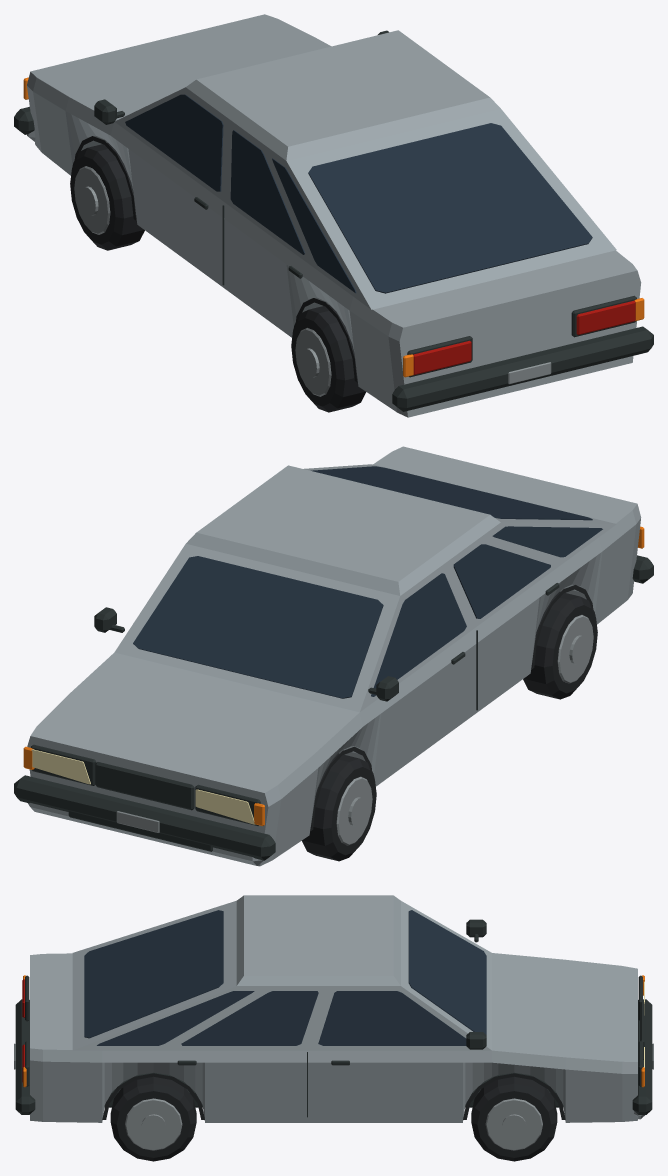
Rendered from 20_Fastback.fbx.
3 views of the same model, one above another, from view 1: azimuth 30°, elevation 25°; view 2: azimuth 150°, elevation 25°; view 3: azimuth 270°, elevation 25° (orthographic). The views are drawn at different scales.
Visible parts, largest first — view 1: Continuous body with open wheel arches.022, Raked cabin with chamfered roof.019, Framed rear windshield.013, Moulded bumper.039, Side glass -1 pane 2.004, Side glass -1 pane 1.014, WheelFL_ShapedSidewall.019, WheelRL_ShapedSidewall.019, Side glass -1 pane 0.017, WheelRL_Rim.019, WheelFL_Rim.019, Tail lamp.039 (+2 smaller); view 2: Continuous body with open wheel arches.022, Raked cabin with chamfered roof.019, Framed opaque windshield.019, Moulded bumper.038, Side glass -1 pane 2.004, Framed rear windshield.013, Side glass -1 pane 1.014, WheelRL_ShapedSidewall.019, WheelFL_ShapedSidewall.019, Inset radiator grille.019, Side glass -1 pane 0.017, WheelFL_Rim.019 (+7 smaller); view 3: Continuous body with open wheel arches.022, Raked cabin with chamfered roof.019, Framed rear windshield.013, Framed opaque windshield.019, Side glass 1 pane 2.004, Side glass 1 pane 1.014, WheelFR_ShapedSidewall.019, WheelRR_ShapedSidewall.019, Side glass 1 pane 0.017, WheelFR_Rim.019, WheelRR_Rim.019, Moulded bumper.039 (+6 smaller).
Part boxes in pixels (x1=…): Continuous body with open wheel arches.022: x1=27, y1=14, x2=641, y2=417; Raked cabin with chamfered roof.019: x1=115, y1=30, x2=616, y2=309; Framed rear windshield.013: x1=308, y1=123, x2=592, y2=293; Moulded bumper.039: x1=392, y1=326, x2=653, y2=411; Side glass -1 pane 2.004: x1=125, y1=94, x2=223, y2=191; Side glass -1 pane 1.014: x1=230, y1=130, x2=304, y2=254; WheelFL_ShapedSidewall.019: x1=70, y1=143, x2=144, y2=250; WheelRL_ShapedSidewall.019: x1=291, y1=304, x2=365, y2=412; Side glass -1 pane 0.017: x1=272, y1=158, x2=356, y2=293; WheelRL_Rim.019: x1=295, y1=328, x2=331, y2=396; WheelFL_Rim.019: x1=74, y1=166, x2=110, y2=234; Tail lamp.039: x1=576, y1=300, x2=635, y2=335; Continuous body with open wheel arches.022: x1=27, y1=446, x2=641, y2=866; Raked cabin with chamfered roof.019: x1=114, y1=464, x2=616, y2=712; Framed opaque windshield.019: x1=133, y1=556, x2=383, y2=698; Moulded bumper.038: x1=14, y1=775, x2=275, y2=860; Side glass -1 pane 2.004: x1=371, y1=573, x2=466, y2=696; Framed rear windshield.013: x1=311, y1=466, x2=592, y2=520; Side glass -1 pane 1.014: x1=453, y1=544, x2=550, y2=618; WheelRL_ShapedSidewall.019: x1=523, y1=591, x2=597, y2=699; WheelFL_ShapedSidewall.019: x1=302, y1=753, x2=376, y2=861; Inset radiator grille.019: x1=95, y1=762, x2=194, y2=810; Side glass -1 pane 0.017: x1=492, y1=526, x2=602, y2=557; WheelFL_Rim.019: x1=336, y1=776, x2=372, y2=845; Continuous body with open wheel arches.022: x1=30, y1=953, x2=637, y2=1122; Raked cabin with chamfered roof.019: x1=72, y1=895, x2=491, y2=1050; Framed rear windshield.013: x1=84, y1=910, x2=223, y2=1038; Framed opaque windshield.019: x1=408, y1=910, x2=486, y2=1034; Side glass 1 pane 2.004: x1=318, y1=991, x2=466, y2=1045; Side glass 1 pane 1.014: x1=181, y1=991, x2=318, y2=1045; WheelFR_ShapedSidewall.019: x1=471, y1=1076, x2=557, y2=1161; WheelRR_ShapedSidewall.019: x1=110, y1=1076, x2=196, y2=1161; Side glass 1 pane 0.017: x1=97, y1=991, x2=254, y2=1045; WheelFR_Rim.019: x1=485, y1=1098, x2=542, y2=1150; WheelRR_Rim.019: x1=125, y1=1098, x2=182, y2=1150; Moulded bumper.039: x1=15, y1=999, x2=35, y2=1114.
Bounding box in the file's own units: 214 × 149 × 492.
